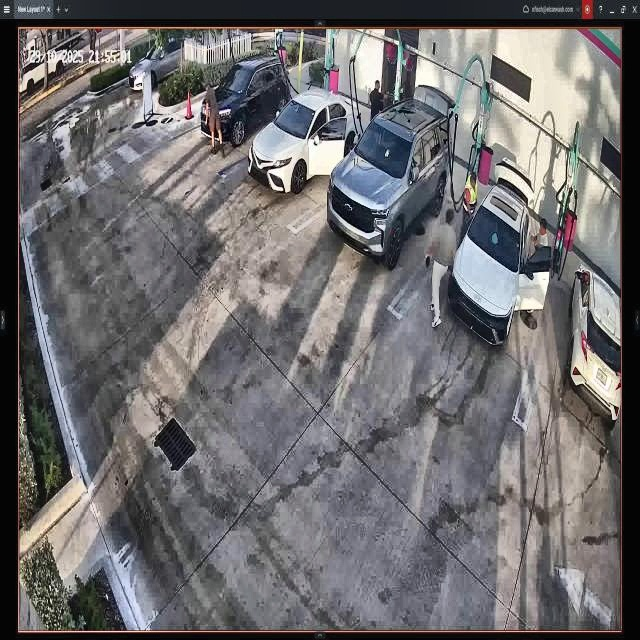Car: (328, 93, 453, 265), (445, 178, 550, 342), (250, 85, 360, 192)
